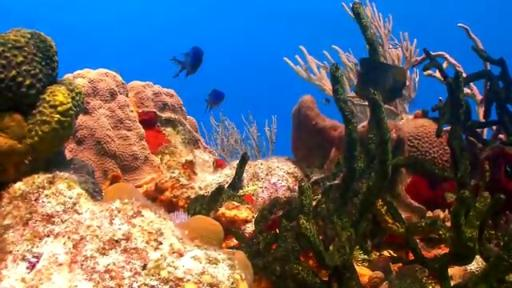Fish: (356, 58, 407, 104), (171, 47, 203, 78), (205, 89, 225, 114), (323, 98, 330, 105)
